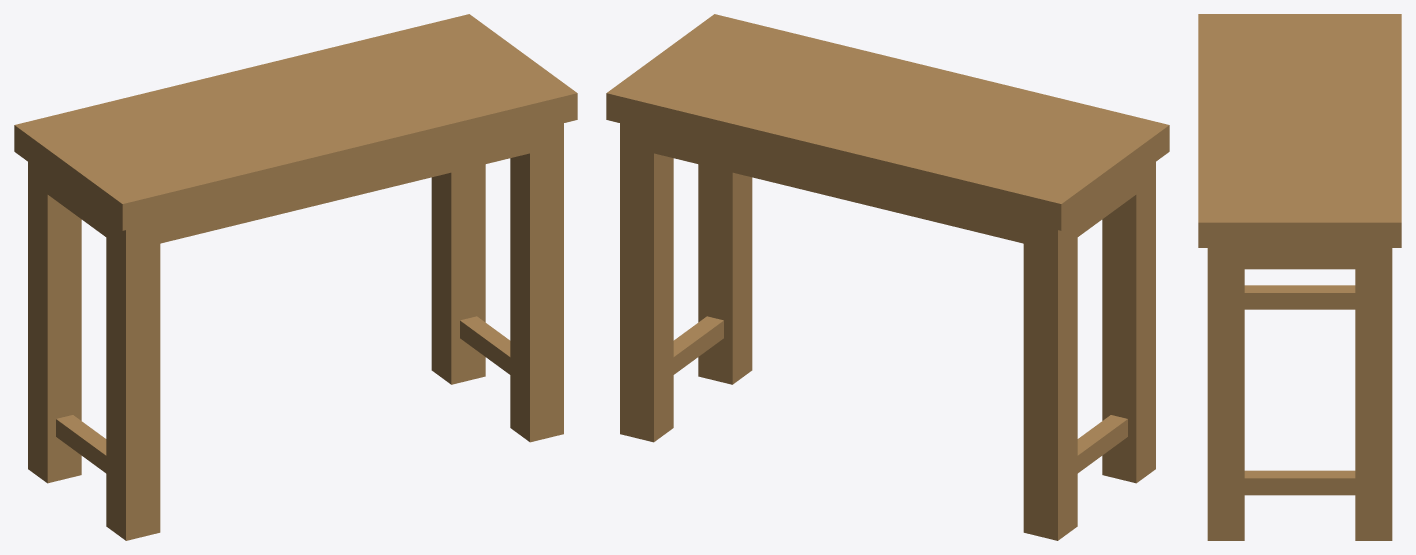
The model's file is sideTable.glb.
3 views of the same model, side by side, from view 1: azimuth 30°, elevation 25°; view 2: azimuth 150°, elevation 25°; view 3: azimuth 270°, elevation 25° (orthographic). The views are drawn at different scales.
Visible parts, largest first — view 1: sideTable; view 2: sideTable; view 3: sideTable.
Boxes of the visible parts, x1,y1,x2,y2 form: sideTable: (14, 14, 577, 540); sideTable: (606, 14, 1169, 540); sideTable: (1198, 14, 1401, 540).
Size of the model in its own units: 1.07 by 0.7688 by 0.44.
